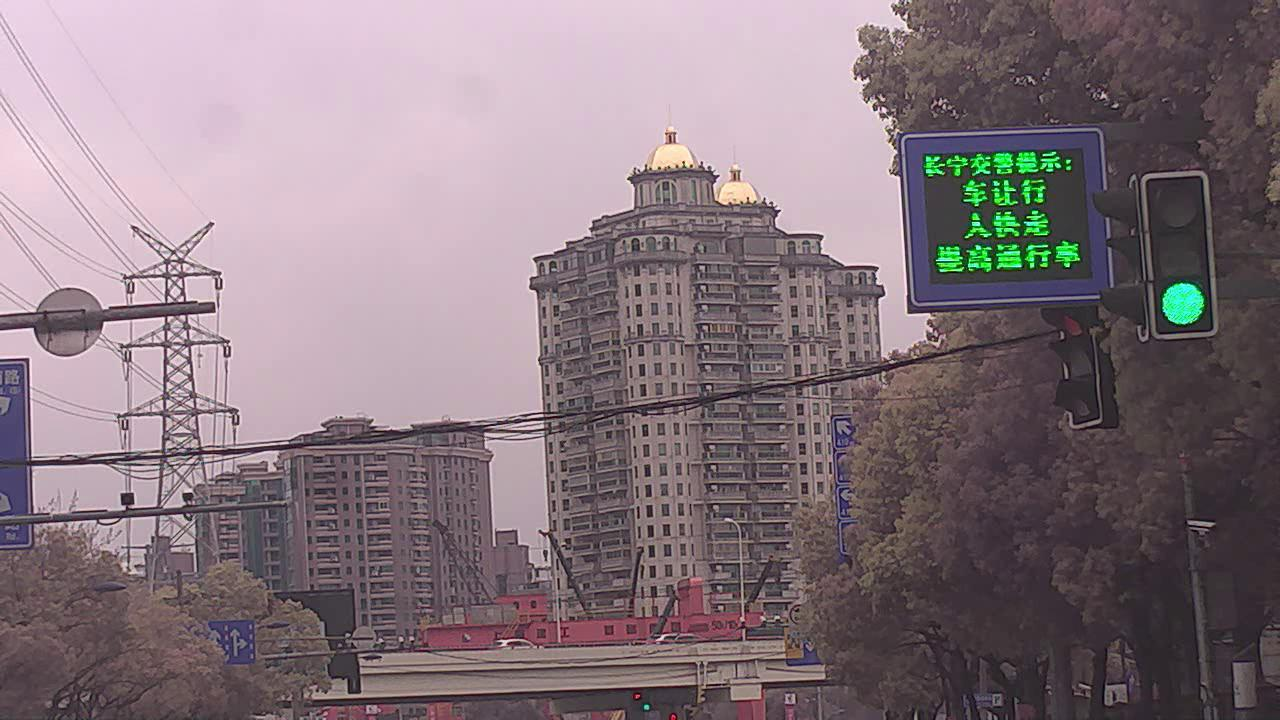traffic_light: (1145, 173, 1219, 339), (1057, 296, 1108, 430)
